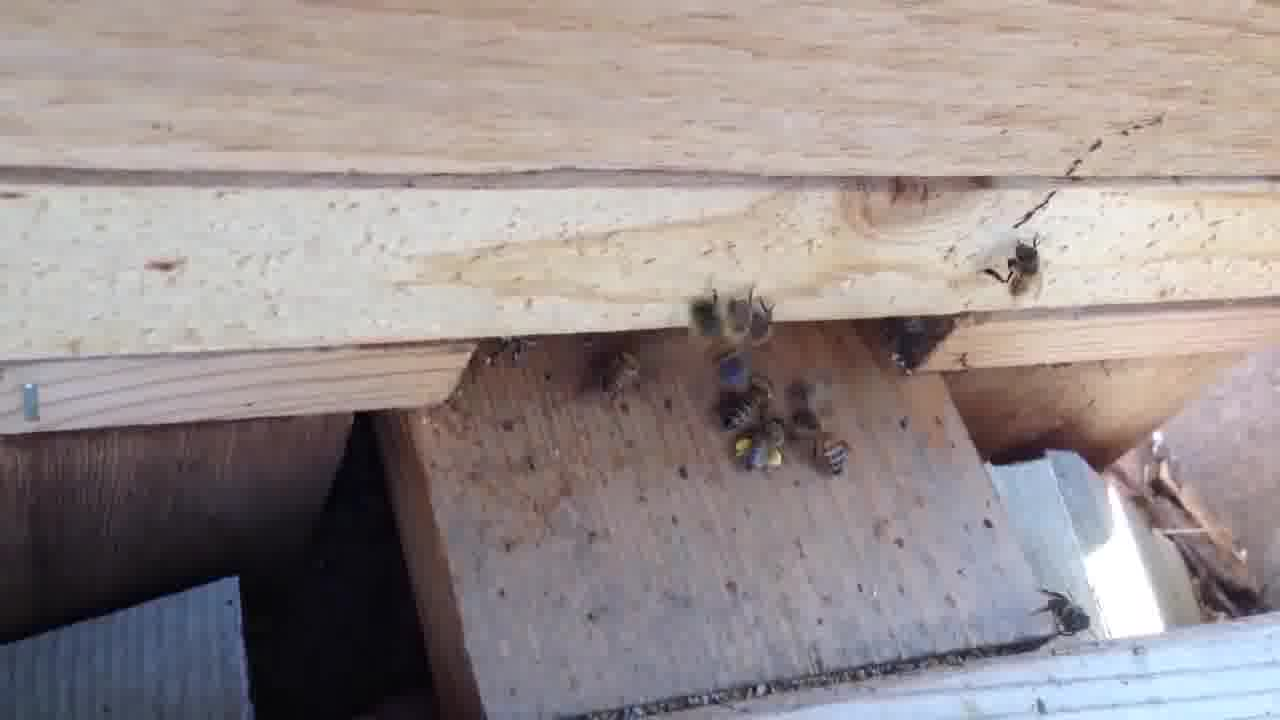pollen: (736, 419, 793, 474)
